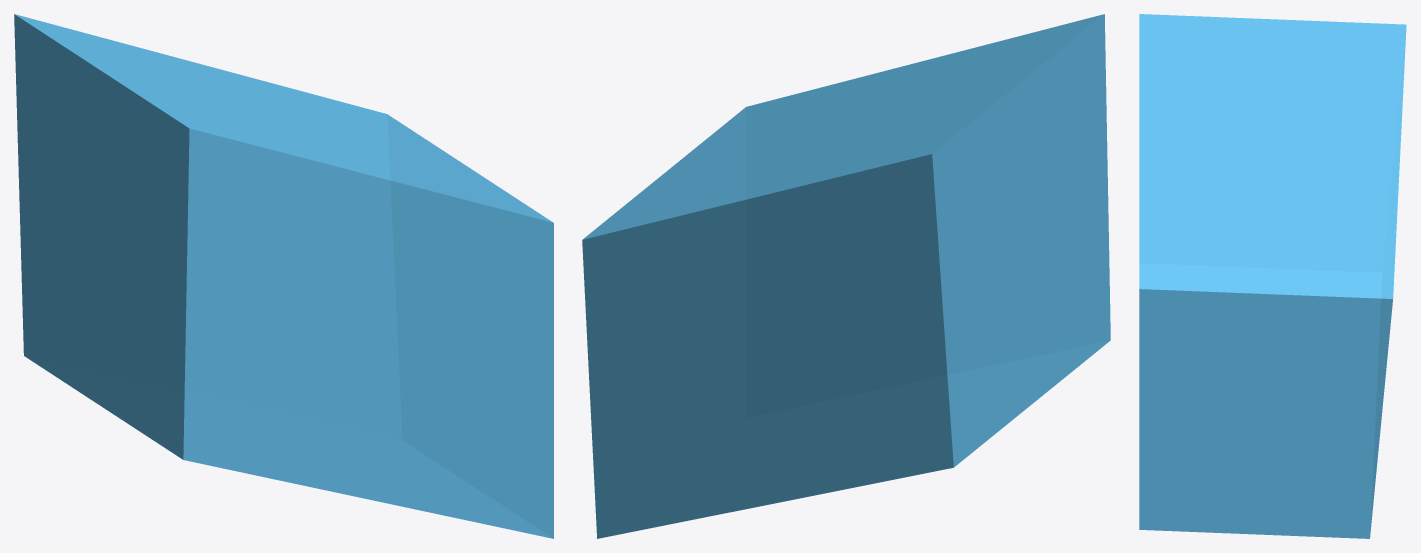
The model's file is Event_421364160_HErechit_34.fbx.
3 renders of one model, left to right at view 1: azimuth 30°, elevation 25°; view 2: azimuth 150°, elevation 25°; view 3: azimuth 270°, elevation 25°, orthographic. The views are drawn at different scales.
Parts seen in each view (by area): view 1: Model; view 2: Model; view 3: Model.
Part boxes in pixels (x1=…): Model: x1=14, y1=14, x2=553, y2=538; Model: x1=582, y1=14, x2=1110, y2=538; Model: x1=1139, y1=14, x2=1406, y2=538.
Bounding box in the file's own units: 0.5842 × 0.7706 × 0.479.
